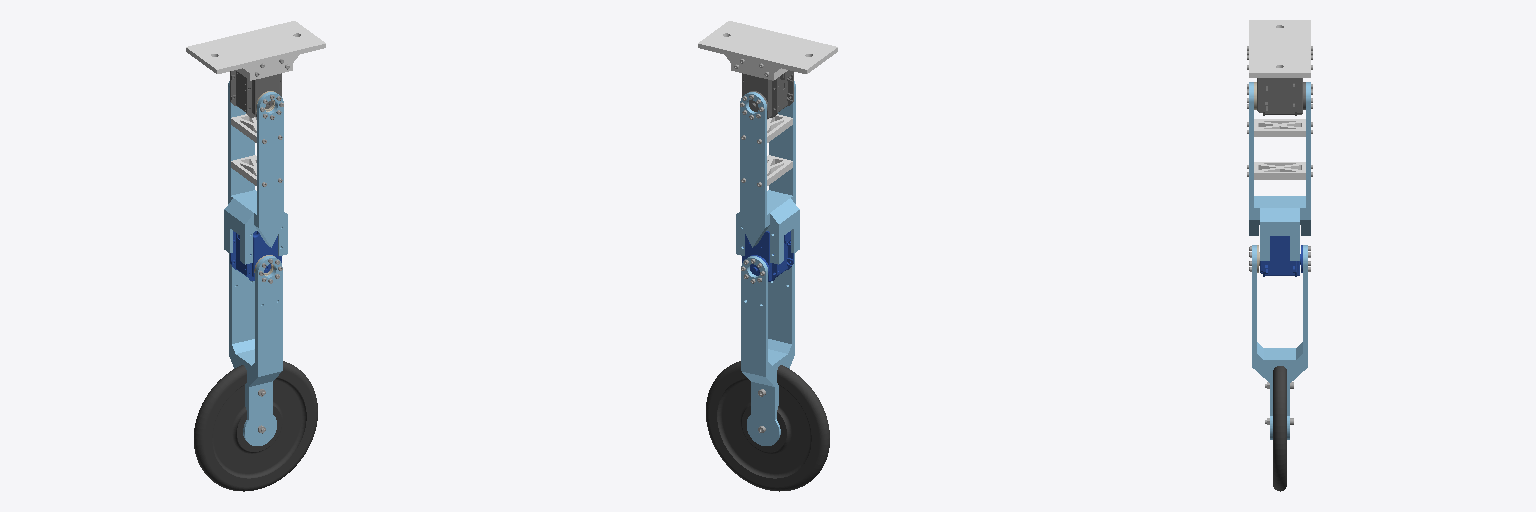
--- Render facts (derived) ---
3 views of the same robot in one strip: view 1: azimuth 30°, elevation 25°; view 2: azimuth 150°, elevation 25°; view 3: azimuth 270°, elevation 25° (orthographic).
Model 2r_mx with 5 links and 4 joints (2 revolute, 2 fixed), rooted at base_106, posed all joints at 0.
Links seen in each view (by area): view 1: sw_segment_64, first_segment_mix, base_106; view 2: sw_segment_64, first_segment_mix, base_106; view 3: first_segment_mix, base_106, sw_segment_64.
Link boxes in pixels (<box>): sw_segment_64: <box>194,253,317,491</box>; first_segment_mix: <box>224,81,287,280</box>; base_106: <box>186,21,325,117</box>; sw_segment_64: <box>706,253,829,491</box>; first_segment_mix: <box>736,81,799,281</box>; base_106: <box>698,21,837,118</box>; first_segment_mix: <box>1247,82,1312,276</box>; base_106: <box>1247,20,1312,115</box>; sw_segment_64: <box>1249,245,1310,491</box>.
Bounding box of the posed robot: 0.1399 × 0.067 × 0.4847 m (x, y, z).
68 mesh visuals loaded from 15 distinct referenced files (15 binary STL).

URDF robot description (2r_mx):
<?xml version="1.0" ?>
<!-- Generated using onshape-to-robot -->
<!-- Onshape https://cad.onshape.com/documents/e764ec92c6d6cd5bcf6d68d9/w/a8e95bf587cc977e65ed8aa5/e/8397fde05620ee94d449e6ed -->
<robot name="2r_mx">
    <!-- Link base_106 -->
    <link name="base_106">
        <inertial>
            <origin xyz="0 0 0" rpy="0 0 0"/>
            <mass value="0"/>
            <inertia ixx="0" ixy="0" ixz="0" iyy="0" iyz="0" izz="0"/>
        </inertial>
        <!-- Part ecrou_2_5 -->
        <visual>
            <origin xyz="0.011 -0.01347 0.593" rpy="1.5708 1.16573e-15 -1.5708"/>
            <geometry>
                <mesh filename="package://assets/ecrou_2_5.stl"/>
            </geometry>
            <material name="ecrou_2_5_material">
                <color rgba="0.690196 0.690196 0.690196 1.0"/>
            </material>
        </visual>
        <!-- Part m2_5x20__configuration__20 -->
        <visual>
            <origin xyz="0.0173 0.03097 0.5852" rpy="1.5708 1.16573e-15 -1.5708"/>
            <geometry>
                <mesh filename="package://assets/m2_5x20__configuration__20.stl"/>
            </geometry>
            <material name="m2_5x20__configuration__20_material">
                <color rgba="0.690196 0.690196 0.690196 1.0"/>
            </material>
        </visual>
        <!-- Part dc08_m01_dummy -->
        <visual>
            <origin xyz="-3.33067e-21 3e-05 0.5452" rpy="-1.5708 -0 -1.55511e-31"/>
            <geometry>
                <mesh filename="package://assets/dc08_m01_dummy.stl"/>
            </geometry>
            <material name="dc08_m01_dummy_material">
                <color rgba="0.498039 0.498039 0.498039 1.0"/>
            </material>
        </visual>
        <!-- Part ecrou_2_5_2 -->
        <visual>
            <origin xyz="-0.0173 -0.01347 0.5852" rpy="1.91128e-16 5.55112e-16 -1.5708"/>
            <geometry>
                <mesh filename="package://assets/ecrou_2_5.stl"/>
            </geometry>
            <material name="ecrou_2_5_2_material">
                <color rgba="0.690196 0.690196 0.690196 1.0"/>
            </material>
        </visual>
        <!-- Part ecrou_2_5_3 -->
        <visual>
            <origin xyz="0.0173 -0.01347 0.5852" rpy="1.91128e-16 5.55112e-16 -1.5708"/>
            <geometry>
                <mesh filename="package://assets/ecrou_2_5.stl"/>
            </geometry>
            <material name="ecrou_2_5_3_material">
                <color rgba="0.690196 0.690196 0.690196 1.0"/>
            </material>
        </visual>
        <!-- Part m2_5x20__configuration__20_2 -->
        <visual>
            <origin xyz="0.011 -0.03097 0.593" rpy="-1.5708 -1.16573e-15 1.5708"/>
            <geometry>
                <mesh filename="package://assets/m2_5x20__configuration__20.stl"/>
            </geometry>
            <material name="m2_5x20__configuration__20_2_material">
                <color rgba="0.690196 0.690196 0.690196 1.0"/>
            </material>
        </visual>
        <!-- Part m2_5x20__configuration__20_3 -->
        <visual>
            <origin xyz="0.011 0.03097 0.593" rpy="1.5708 1.16573e-15 -1.5708"/>
            <geometry>
                <mesh filename="package://assets/m2_5x20__configuration__20.stl"/>
            </geometry>
            <material name="m2_5x20__configuration__20_3_material">
                <color rgba="0.690196 0.690196 0.690196 1.0"/>
            </material>
        </visual>
        <!-- Part m2_5x20__configuration__20_4 -->
        <visual>
            <origin xyz="-0.0173 0.03097 0.5852" rpy="1.5708 1.16573e-15 -1.5708"/>
            <geometry>
                <mesh filename="package://assets/m2_5x20__configuration__20.stl"/>
            </geometry>
            <material name="m2_5x20__configuration__20_4_material">
                <color rgba="0.690196 0.690196 0.690196 1.0"/>
            </material>
        </visual>
        <!-- Part hn05_i101 -->
        <visual>
            <origin xyz="-6.66134e-21 6e-05 0.5452" rpy="-1.5708 -0 -1.30859e-31"/>
            <geometry>
                <mesh filename="package://assets/hn05_i101.stl"/>
            </geometry>
            <material name="hn05_i101_material">
                <color rgba="0.8 0.776471 0.713725 1.0"/>
            </material>
        </visual>
        <!-- Part ecrou_2_5_4 -->
        <visual>
            <origin xyz="-0.011 -0.01347 0.593" rpy="1.5708 1.16573e-15 -1.5708"/>
            <geometry>
                <mesh filename="package://assets/ecrou_2_5.stl"/>
            </geometry>
            <material name="ecrou_2_5_4_material">
                <color rgba="0.690196 0.690196 0.690196 1.0"/>
            </material>
        </visual>
        <!-- Part m2_5x20__configuration__20_5 -->
        <visual>
            <origin xyz="-0.0173 -0.03097 0.5852" rpy="-1.5708 -1.16573e-15 1.5708"/>
            <geometry>
                <mesh filename="package://assets/m2_5x20__configuration__20.stl"/>
            </geometry>
            <material name="m2_5x20__configuration__20_5_material">
                <color rgba="0.690196 0.690196 0.690196 1.0"/>
            </material>
        </visual>
        <!-- Part m2_5x20__configuration__20_6 -->
        <visual>
            <origin xyz="-0.011 -0.03097 0.593" rpy="-1.5708 -1.16573e-15 1.5708"/>
            <geometry>
                <mesh filename="package://assets/m2_5x20__configuration__20.stl"/>
            </geometry>
            <material name="m2_5x20__configuration__20_6_material">
                <color rgba="0.690196 0.690196 0.690196 1.0"/>
            </material>
        </visual>
        <!-- Part m2_5x20__configuration__20_7 -->
        <visual>
            <origin xyz="-0.011 0.03097 0.593" rpy="1.5708 1.16573e-15 -1.5708"/>
            <geometry>
                <mesh filename="package://assets/m2_5x20__configuration__20.stl"/>
            </geometry>
            <material name="m2_5x20__configuration__20_7_material">
                <color rgba="0.690196 0.690196 0.690196 1.0"/>
            </material>
        </visual>
        <!-- Part m2_5x20__configuration__20_8 -->
        <visual>
            <origin xyz="0.0173 -0.03097 0.5852" rpy="-1.5708 -1.16573e-15 1.5708"/>
            <geometry>
                <mesh filename="package://assets/m2_5x20__configuration__20.stl"/>
            </geometry>
            <material name="m2_5x20__configuration__20_8_material">
                <color rgba="0.690196 0.690196 0.690196 1.0"/>
            </material>
        </visual>
        <!-- Part base_mx106 -->
        <visual>
            <origin xyz="0 7.33921e-18 0.5452" rpy="-1.5708 -0 -1.55511e-31"/>
            <geometry>
                <mesh filename="package://assets/base_mx106.stl"/>
            </geometry>
            <material name="base_mx106_material">
                <color rgba="0.917647 0.917647 0.917647 1.0"/>
            </material>
        </visual>
    </link>
    <!-- Frame base (dummy link + fixed joint) -->
    <link name="base">
        <origin xyz="0 0 0" rpy="0 -0 0"/>
        <inertial>
            <origin xyz="0 0 0" rpy="0 0 0"/>
            <mass value="1e-9"/>
            <inertia ixx="0" ixy="0" ixz="0" iyy="0" iyz="0" izz="0"/>
        </inertial>
    </link>
    <joint name="base_frame" type="fixed">
        <origin xyz="1.73264e-35 9.3735e-36 0.6" rpy="3.14159 1.13185e-16 -1.07995e-16"/>
        <parent link="base_106"/>
        <child link="base"/>
        <axis xyz="0 0 0"/>
    </joint>
    <!-- Link first_segment_mix -->
    <link name="first_segment_mix">
        <inertial>
            <origin xyz="5.57459e-09 -0.138051 0.026169" rpy="0 0 0"/>
            <mass value="0.211448"/>
            <inertia ixx="0.000602098" ixy="2.865e-12" ixz="1.94432e-11" iyy="8.00363e-05" iyz="7.36043e-07" izz="0.000561942"/>
        </inertial>
        <!-- Part m2_5x6__configuration__6 -->
        <visual>
            <origin xyz="-0.011 -1.44329e-15 -0.005" rpy="2.32925e-13 -1.5708 0"/>
            <geometry>
                <mesh filename="package://assets/m2_5x6__configuration__6.stl"/>
            </geometry>
            <material name="m2_5x6__configuration__6_material">
                <color rgba="0.690196 0.690196 0.690196 1.0"/>
            </material>
        </visual>
        <!-- Part m2_5x6__configuration__6_2 -->
        <visual>
            <origin xyz="-0.00777817 -0.00777817 -0.005" rpy="2.32925e-13 -1.5708 0"/>
            <geometry>
                <mesh filename="package://assets/m2_5x6__configuration__6.stl"/>
            </geometry>
            <material name="m2_5x6__configuration__6_2_material">
                <color rgba="0.690196 0.690196 0.690196 1.0"/>
            </material>
        </visual>
        <!-- Part mid_part -->
        <visual>
            <origin xyz="5.08801e-15 -0.047 0.02597" rpy="-4.56302e-14 5.13584e-16 -3.14159"/>
            <geometry>
                <mesh filename="package://assets/mid_part.stl"/>
            </geometry>
            <material name="mid_part_material">
                <color rgba="0.917647 0.917647 0.917647 1.0"/>
            </material>
        </visual>
        <!-- Part m2_5x6__configuration__6_3 -->
        <visual>
            <origin xyz="-1.34807e-15 0.011 -0.005" rpy="2.32925e-13 -1.5708 0"/>
            <geometry>
                <mesh filename="package://assets/m2_5x6__configuration__6.stl"/>
            </geometry>
            <material name="m2_5x6__configuration__6_3_material">
                <color rgba="0.690196 0.690196 0.690196 1.0"/>
            </material>
        </visual>
        <!-- Part dc05_m01_dummy -->
        <visual>
            <origin xyz="1.99576e-14 -0.18 0.026" rpy="-3.14159 -2.73691e-47 -2.37389e-65"/>
            <geometry>
                <mesh filename="package://assets/dc05_m01_dummy.stl"/>
            </geometry>
            <material name="dc05_m01_dummy_material">
                <color rgba="0.231373 0.380392 0.705882 1.0"/>
            </material>
        </visual>
        <!-- Part m2_5x6__configuration__6_4 -->
        <visual>
            <origin xyz="0.00777817 0.00777817 0.05694" rpy="-2.33313e-13 1.5708 0"/>
            <geometry>
                <mesh filename="package://assets/m2_5x6__configuration__6.stl"/>
            </geometry>
            <material name="m2_5x6__configuration__6_4_material">
                <color rgba="0.690196 0.690196 0.690196 1.0"/>
            </material>
        </visual>
        <!-- Part first_segment_mix -->
        <visual>
            <origin xyz="3.20689e-14 -0.002 0.026" rpy="-3.14159 -2.73691e-47 -2.37389e-65"/>
            <geometry>
                <mesh filename="package://assets/first_segment_mix.stl"/>
            </geometry>
            <material name="first_segment_mix_material">
                <color rgba="0.615686 0.811765 0.929412 1.0"/>
            </material>
        </visual>
        <!-- Part m2_5x12__configuration__12 -->
        <visual>
            <origin xyz="-0.009 -0.0823234 0.05694" rpy="-2.33313e-13 1.5708 0"/>
            <geometry>
                <mesh filename="package://assets/m2_5x12__configuration__12.stl"/>
            </geometry>
            <material name="m2_5x12__configuration__12_material">
                <color rgba="0.690196 0.690196 0.690196 1.0"/>
            </material>
        </visual>
        <!-- Part m2_5x6__configuration__6_5 -->
        <visual>
            <origin xyz="-0.00777817 -0.00777817 0.05694" rpy="-2.33313e-13 1.5708 0"/>
            <geometry>
                <mesh filename="package://assets/m2_5x6__configuration__6.stl"/>
            </geometry>
            <material name="m2_5x6__configuration__6_5_material">
                <color rgba="0.690196 0.690196 0.690196 1.0"/>
            </material>
        </visual>
        <!-- Part m2_5x6__configuration__6_6 -->
        <visual>
            <origin xyz="-0.00777817 0.00777817 -0.005" rpy="2.32925e-13 -1.5708 0"/>
            <geometry>
                <mesh filename="package://assets/m2_5x6__configuration__6.stl"/>
            </geometry>
            <material name="m2_5x6__configuration__6_6_material">
                <color rgba="0.690196 0.690196 0.690196 1.0"/>
            </material>
        </visual>
        <!-- Part m2_5x6__configuration__6_7 -->
        <visual>
            <origin xyz="0.00777817 0.00777817 -0.005" rpy="2.32925e-13 -1.5708 0"/>
            <geometry>
                <mesh filename="package://assets/m2_5x6__configuration__6.stl"/>
            </geometry>
            <material name="m2_5x6__configuration__6_7_material">
                <color rgba="0.690196 0.690196 0.690196 1.0"/>
            </material>
        </visual>
        <!-- Part m2_5x6__configuration__6_8 -->
        <visual>
            <origin xyz="0.011 8.88178e-16 -0.005" rpy="2.32925e-13 -1.5708 0"/>
            <geometry>
                <mesh filename="package://assets/m2_5x6__configuration__6.stl"/>
            </geometry>
            <material name="m2_5x6__configuration__6_8_material">
                <color rgba="0.690196 0.690196 0.690196 1.0"/>
            </material>
        </visual>
        <!-- Part m2_5x6__configuration__6_9 -->
        <visual>
            <origin xyz="9.8218e-16 -0.011 0.05694" rpy="-2.33313e-13 1.5708 0"/>
            <geometry>
                <mesh filename="package://assets/m2_5x6__configuration__6.stl"/>
            </geometry>
            <material name="m2_5x6__configuration__6_9_material">
                <color rgba="0.690196 0.690196 0.690196 1.0"/>
            </material>
        </visual>
        <!-- Part m2_5x12__configuration__12_2 -->
        <visual>
            <origin xyz="0.009 -0.0353234 0.05694" rpy="-2.33313e-13 1.5708 0"/>
            <geometry>
                <mesh filename="package://assets/m2_5x12__configuration__12.stl"/>
            </geometry>
            <material name="m2_5x12__configuration__12_2_material">
                <color rgba="0.690196 0.690196 0.690196 1.0"/>
            </material>
        </visual>
        <!-- Part m2_5x12__configuration__12_3 -->
        <visual>
            <origin xyz="-0.009 -0.0353234 0.05694" rpy="-2.33313e-13 1.5708 0"/>
            <geometry>
                <mesh filename="package://assets/m2_5x12__configuration__12.stl"/>
            </geometry>
            <material name="m2_5x12__configuration__12_3_material">
                <color rgba="0.690196 0.690196 0.690196 1.0"/>
            </material>
        </visual>
        <!-- Part m2_5x6__configuration__6_10 -->
        <visual>
            <origin xyz="0.011 -5.55112e-16 0.05694" rpy="-2.33313e-13 1.5708 0"/>
            <geometry>
                <mesh filename="package://assets/m2_5x6__configuration__6.stl"/>
            </geometry>
            <material name="m2_5x6__configuration__6_10_material">
                <color rgba="0.690196 0.690196 0.690196 1.0"/>
            </material>
        </visual>
        <!-- Part m2_5x6__configuration__6_11 -->
        <visual>
            <origin xyz="0.00777817 -0.00777817 -0.005" rpy="2.32925e-13 -1.5708 0"/>
            <geometry>
                <mesh filename="package://assets/m2_5x6__configuration__6.stl"/>
            </geometry>
            <material name="m2_5x6__configuration__6_11_material">
                <color rgba="0.690196 0.690196 0.690196 1.0"/>
            </material>
        </visual>
        <!-- Part mid_part_2 -->
        <visual>
            <origin xyz="7.41816e-15 -0.0706468 0.02597" rpy="4.4964e-14 -6.5604e-16 2.01617e-13"/>
            <geometry>
                <mesh filename="package://assets/mid_part.stl"/>
            </geometry>
            <material name="mid_part_2_material">
                <color rgba="0.917647 0.917647 0.917647 1.0"/>
            </material>
        </visual>
        <!-- Part first_segment_mix_2 -->
        <visual>
            <origin xyz="-3.19909e-14 -0.002 0.02594" rpy="-4.56302e-14 5.13584e-16 -3.14159"/>
            <geometry>
                <mesh filename="package://assets/first_segment_mix.stl"/>
            </geometry>
            <material name="first_segment_mix_2_material">
                <color rgba="0.615686 0.811765 0.929412 1.0"/>
            </material>
        </visual>
        <!-- Part m2_5x6__configuration__6_12 -->
        <visual>
            <origin xyz="-1.45909e-15 0.011 0.05694" rpy="-2.33313e-13 1.5708 0"/>
            <geometry>
                <mesh filename="package://assets/m2_5x6__configuration__6.stl"/>
            </geometry>
            <material name="m2_5x6__configuration__6_12_material">
                <color rgba="0.690196 0.690196 0.690196 1.0"/>
            </material>
        </visual>
        <!-- Part m2_5x6__configuration__6_13 -->
        <visual>
            <origin xyz="-0.00777817 0.00777817 0.05694" rpy="-2.33313e-13 1.5708 0"/>
            <geometry>
                <mesh filename="package://assets/m2_5x6__configuration__6.stl"/>
            </geometry>
            <material name="m2_5x6__configuration__6_13_material">
                <color rgba="0.690196 0.690196 0.690196 1.0"/>
            </material>
        </visual>
        <!-- Part m2_5x6__configuration__6_14 -->
        <visual>
            <origin xyz="-0.011 -2.88658e-15 0.05694" rpy="-2.33313e-13 1.5708 0"/>
            <geometry>
                <mesh filename="package://assets/m2_5x6__configuration__6.stl"/>
            </geometry>
            <material name="m2_5x6__configuration__6_14_material">
                <color rgba="0.690196 0.690196 0.690196 1.0"/>
            </material>
        </visual>
        <!-- Part m2_5x12__configuration__12_4 -->
        <visual>
            <origin xyz="0.009 -0.0823234 0.05694" rpy="-2.33313e-13 1.5708 0"/>
            <geometry>
                <mesh filename="package://assets/m2_5x12__configuration__12.stl"/>
            </geometry>
            <material name="m2_5x12__configuration__12_4_material">
                <color rgba="0.690196 0.690196 0.690196 1.0"/>
            </material>
        </visual>
        <!-- Part m2_5x12__configuration__12_5 -->
        <visual>
            <origin xyz="0.009 -0.0353234 -0.005" rpy="2.32925e-13 -1.5708 0"/>
            <geometry>
                <mesh filename="package://assets/m2_5x12__configuration__12.stl"/>
            </geometry>
            <material name="m2_5x12__configuration__12_5_material">
                <color rgba="0.690196 0.690196 0.690196 1.0"/>
            </material>
        </visual>
        <!-- Part m2_5x6__configuration__6_15 -->
        <visual>
            <origin xyz="9.8218e-16 -0.011 -0.005" rpy="2.32925e-13 -1.5708 0"/>
            <geometry>
                <mesh filename="package://assets/m2_5x6__configuration__6.stl"/>
            </geometry>
            <material name="m2_5x6__configuration__6_15_material">
                <color rgba="0.690196 0.690196 0.690196 1.0"/>
            </material>
        </visual>
        <!-- Part m2_5x12__configuration__12_6 -->
        <visual>
            <origin xyz="-0.009 -0.0823234 -0.005" rpy="2.32925e-13 -1.5708 0"/>
            <geometry>
                <mesh filename="package://assets/m2_5x12__configuration__12.stl"/>
            </geometry>
            <material name="m2_5x12__configuration__12_6_material">
                <color rgba="0.690196 0.690196 0.690196 1.0"/>
            </material>
        </visual>
        <!-- Part m2_5x6__configuration__6_16 -->
        <visual>
            <origin xyz="0.00777817 -0.00777817 0.05694" rpy="-2.33313e-13 1.5708 0"/>
            <geometry>
                <mesh filename="package://assets/m2_5x6__configuration__6.stl"/>
            </geometry>
            <material name="m2_5x6__configuration__6_16_material">
                <color rgba="0.690196 0.690196 0.690196 1.0"/>
            </material>
        </visual>
        <!-- Part m2_5x12__configuration__12_7 -->
        <visual>
            <origin xyz="0.009 -0.0823234 -0.005" rpy="2.32925e-13 -1.5708 0"/>
            <geometry>
                <mesh filename="package://assets/m2_5x12__configuration__12.stl"/>
            </geometry>
            <material name="m2_5x12__configuration__12_7_material">
                <color rgba="0.690196 0.690196 0.690196 1.0"/>
            </material>
        </visual>
        <!-- Part m2_5x12__configuration__12_8 -->
        <visual>
            <origin xyz="-0.009 -0.0353234 -0.005" rpy="2.32925e-13 -1.5708 0"/>
            <geometry>
                <mesh filename="package://assets/m2_5x12__configuration__12.stl"/>
            </geometry>
            <material name="m2_5x12__configuration__12_8_material">
                <color rgba="0.690196 0.690196 0.690196 1.0"/>
            </material>
        </visual>
        <!-- Part hn05_i101_2 -->
        <visual>
            <origin xyz="1.99576e-14 -0.18 0.04564" rpy="4.4964e-14 -6.5604e-16 2.01617e-13"/>
            <geometry>
                <mesh filename="package://assets/hn05_i101__2.stl"/>
            </geometry>
            <material name="hn05_i101_2_material">
                <color rgba="0.8 0.776471 0.713725 1.0"/>
            </material>
        </visual>
    </link>
    <!-- Link sw_segment_64 -->
    <link name="sw_segment_64">
        <inertial>
            <origin xyz="-2.12921e-17 -0.177175 0.0233766" rpy="0 0 0"/>
            <mass value="1.04661"/>
            <inertia ixx="0.00198375" ixy="3.49657e-16" ixz="7.76176e-10" iyy="0.00143404" iyz="-1.18439e-07" izz="0.00334693"/>
        </inertial>
        <!-- Part sw_mx64_segment -->
        <visual>
            <origin xyz="-2.10121e-18 0.18 0.02077" rpy="1.03644e-32 5.70628e-32 3.14159"/>
            <geometry>
                <mesh filename="package://assets/sw_mx64_segment.stl"/>
            </geometry>
            <material name="sw_mx64_segment_material">
                <color rgba="0.615686 0.811765 0.929412 1.0"/>
            </material>
        </visual>
        <!-- Part m2_5x6__configuration__6_17 -->
        <visual>
            <origin xyz="0.011 -9.65894e-15 -0.005" rpy="2.24702e-29 -1.5708 0"/>
            <geometry>
                <mesh filename="package://assets/m2_5x6__configuration__6.stl"/>
            </geometry>
            <material name="m2_5x6__configuration__6_17_material">
                <color rgba="0.690196 0.690196 0.690196 1.0"/>
            </material>
        </visual>
        <!-- Part m2_5x6__configuration__6_18 -->
        <visual>
            <origin xyz="-0.011 -9.76996e-15 0.05174" rpy="-2.21744e-29 1.5708 0"/>
            <geometry>
                <mesh filename="package://assets/m2_5x6__configuration__6.stl"/>
            </geometry>
            <material name="m2_5x6__configuration__6_18_material">
                <color rgba="0.690196 0.690196 0.690196 1.0"/>
            </material>
        </visual>
        <!-- Part ecrou_4 -->
        <visual>
            <origin xyz="-2.52695e-17 -0.14 0.03487" rpy="-2.21744e-29 1.5708 0"/>
            <geometry>
                <mesh filename="package://assets/ecrou_4.stl"/>
            </geometry>
            <material name="ecrou_4_material">
                <color rgba="0.690196 0.690196 0.690196 1.0"/>
            </material>
        </visual>
        <!-- Part weight_985 -->
        <visual>
            <origin xyz="-5.56546e-17 -0.18 0.02012" rpy="-1.5708 5.97715e-19 -1.2326e-32"/>
            <geometry>
                <mesh filename="package://assets/weight_985.stl"/>
            </geometry>
            <material name="weight_985_material">
                <color rgba="0.301961 0.301961 0.301961 1.0"/>
            </material>
        </visual>
        <!-- Part m2_5x6__configuration__6_19 -->
        <visual>
            <origin xyz="-0.00777817 -0.00777817 0.05174" rpy="-2.21744e-29 1.5708 0"/>
            <geometry>
                <mesh filename="package://assets/m2_5x6__configuration__6.stl"/>
            </geometry>
            <material name="m2_5x6__configuration__6_19_material">
                <color rgba="0.690196 0.690196 0.690196 1.0"/>
            </material>
        </visual>
        <!-- Part m2_5x6__configuration__6_20 -->
        <visual>
            <origin xyz="-6.50266e-17 0.011 0.05174" rpy="-2.21744e-29 1.5708 0"/>
            <geometry>
                <mesh filename="package://assets/m2_5x6__configuration__6.stl"/>
            </geometry>
            <material name="m2_5x6__configuration__6_20_material">
                <color rgba="0.690196 0.690196 0.690196 1.0"/>
            </material>
        </visual>
        <!-- Part m2_5x6__configuration__6_21 -->
        <visual>
            <origin xyz="-0.011 -9.76996e-15 -0.005" rpy="2.24702e-29 -1.5708 0"/>
            <geometry>
                <mesh filename="package://assets/m2_5x6__configuration__6.stl"/>
            </geometry>
            <material name="m2_5x6__configuration__6_21_material">
                <color rgba="0.690196 0.690196 0.690196 1.0"/>
            </material>
        </visual>
        <!-- Part ecrou_4_2 -->
        <visual>
            <origin xyz="-4.96944e-17 -0.18 0.03487" rpy="-2.21744e-29 1.5708 0"/>
            <geometry>
                <mesh filename="package://assets/ecrou_4.stl"/>
            </geometry>
            <material name="ecrou_4_2_material">
                <color rgba="0.690196 0.690196 0.690196 1.0"/>
            </material>
        </visual>
        <!-- Part m2_5x6__configuration__6_22 -->
        <visual>
            <origin xyz="-0.00777817 0.00777817 -0.005" rpy="2.24702e-29 -1.5708 0"/>
            <geometry>
                <mesh filename="package://assets/m2_5x6__configuration__6.stl"/>
            </geometry>
            <material name="m2_5x6__configuration__6_22_material">
                <color rgba="0.690196 0.690196 0.690196 1.0"/>
            </material>
        </visual>
        <!-- Part m2_5x6__configuration__6_23 -->
        <visual>
            <origin xyz="6.03176e-17 -0.011 0.05174" rpy="-2.21744e-29 1.5708 0"/>
            <geometry>
                <mesh filename="package://assets/m2_5x6__configuration__6.stl"/>
            </geometry>
            <material name="m2_5x6__configuration__6_23_material">
                <color rgba="0.690196 0.690196 0.690196 1.0"/>
            </material>
        </visual>
        <!-- Part m4x25__length__30 -->
        <visual>
            <origin xyz="-3.39168e-17 -0.14 0.01347" rpy="2.24702e-29 -1.5708 0"/>
            <geometry>
                <mesh filename="package://assets/m4x25__length__30.stl"/>
            </geometry>
            <material name="m4x25__length__30_material">
                <color rgba="0.690196 0.690196 0.690196 1.0"/>
            </material>
        </visual>
        <!-- Part m2_5x6__configuration__6_24 -->
        <visual>
            <origin xyz="-4.68724e-18 0.011 -0.005" rpy="2.24702e-29 -1.5708 0"/>
            <geometry>
                <mesh filename="package://assets/m2_5x6__configuration__6.stl"/>
            </geometry>
            <material name="m2_5x6__configuration__6_24_material">
                <color rgba="0.690196 0.690196 0.690196 1.0"/>
            </material>
        </visual>
        <!-- Part sw_mx64_segment_2 -->
        <visual>
            <origin xyz="-3.15544e-30 0.18 0.02597" rpy="3.14159 6.52163e-32 -1.2326e-32"/>
            <geometry>
                <mesh filename="package://assets/sw_mx64_segment.stl"/>
            </geometry>
            <material name="sw_mx64_segment_2_material">
                <color rgba="0.615686 0.811765 0.929412 1.0"/>
            </material>
        </visual>
        <!-- Part m2_5x6__configuration__6_25 -->
        <visual>
            <origin xyz="0.00777817 -0.00777817 0.05174" rpy="-2.21744e-29 1.5708 0"/>
            <geometry>
                <mesh filename="package://assets/m2_5x6__configuration__6.stl"/>
            </geometry>
            <material name="m2_5x6__configuration__6_25_material">
                <color rgba="0.690196 0.690196 0.690196 1.0"/>
            </material>
        </visual>
        <!-- Part m2_5x6__configuration__6_26 -->
        <visual>
            <origin xyz="-0.00777817 -0.00777817 -0.005" rpy="2.24702e-29 -1.5708 0"/>
            <geometry>
                <mesh filename="package://assets/m2_5x6__configuration__6.stl"/>
            </geometry>
            <material name="m2_5x6__configuration__6_26_material">
                <color rgba="0.690196 0.690196 0.690196 1.0"/>
            </material>
        </visual>
        <!-- Part m2_5x6__configuration__6_27 -->
        <visual>
            <origin xyz="0.00777817 0.00777817 0.05174" rpy="-2.21744e-29 1.5708 0"/>
            <geometry>
                <mesh filename="package://assets/m2_5x6__configuration__6.stl"/>
            </geometry>
            <material name="m2_5x6__configuration__6_27_material">
                <color rgba="0.690196 0.690196 0.690196 1.0"/>
            </material>
        </visual>
        <!-- Part m2_5x6__configuration__6_28 -->
        <visual>
            <origin xyz="6.51458e-17 -0.011 -0.005" rpy="2.24702e-29 -1.5708 0"/>
            <geometry>
                <mesh filename="package://assets/m2_5x6__configuration__6.stl"/>
            </geometry>
            <material name="m2_5x6__configuration__6_28_material">
                <color rgba="0.690196 0.690196 0.690196 1.0"/>
            </material>
        </visual>
        <!-- Part m2_5x6__configuration__6_29 -->
        <visual>
            <origin xyz="0.00777817 -0.00777817 -0.005" rpy="2.24702e-29 -1.5708 0"/>
            <geometry>
                <mesh filename="package://assets/m2_5x6__configuration__6.stl"/>
            </geometry>
            <material name="m2_5x6__configuration__6_29_material">
                <color rgba="0.690196 0.690196 0.690196 1.0"/>
            </material>
        </visual>
        <!-- Part m2_5x6__configuration__6_30 -->
        <visual>
            <origin xyz="-0.00777817 0.00777817 0.05174" rpy="-2.21744e-29 1.5708 0"/>
            <geometry>
                <mesh filename="package://assets/m2_5x6__configuration__6.stl"/>
            </geometry>
            <material name="m2_5x6__configuration__6_30_material">
                <color rgba="0.690196 0.690196 0.690196 1.0"/>
            </material>
        </visual>
        <!-- Part m4x25__length__30_2 -->
        <visual>
            <origin xyz="-5.83417e-17 -0.18 0.01347" rpy="2.24702e-29 -1.5708 0"/>
            <geometry>
                <mesh filename="package://assets/m4x25__length__30.stl"/>
            </geometry>
            <material name="m4x25__length__30_2_material">
                <color rgba="0.690196 0.690196 0.690196 1.0"/>
            </material>
        </visual>
        <!-- Part m2_5x6__configuration__6_31 -->
        <visual>
            <origin xyz="0.011 -9.65894e-15 0.05174" rpy="-2.21744e-29 1.5708 0"/>
            <geometry>
                <mesh filename="package://assets/m2_5x6__configuration__6.stl"/>
            </geometry>
            <material name="m2_5x6__configuration__6_31_material">
                <color rgba="0.690196 0.690196 0.690196 1.0"/>
            </material>
        </visual>
        <!-- Part m2_5x6__configuration__6_32 -->
        <visual>
            <origin xyz="0.00777817 0.00777817 -0.005" rpy="2.24702e-29 -1.5708 0"/>
            <geometry>
                <mesh filename="package://assets/m2_5x6__configuration__6.stl"/>
            </geometry>
            <material name="m2_5x6__configuration__6_32_material">
                <color rgba="0.690196 0.690196 0.690196 1.0"/>
            </material>
        </visual>
    </link>
    <!-- Frame end (dummy link + fixed joint) -->
    <link name="end">
        <origin xyz="0 0 0" rpy="0 -0 0"/>
        <inertial>
            <origin xyz="0 0 0" rpy="0 0 0"/>
            <mass value="1e-9"/>
            <inertia ixx="0" ixy="0" ixz="0" iyy="0" iyz="0" izz="0"/>
        </inertial>
    </link>
    <joint name="end_frame" type="fixed">
        <origin xyz="-5.11455e-17 -0.18 0.02337" rpy="1.5708 5.97715e-19 -1.2326e-32"/>
        <parent link="sw_segment_64"/>
        <child link="end"/>
        <axis xyz="0 0 0"/>
    </joint>
    <!-- Joint from first_segment_mix to sw_segment_64 -->
    <joint name="R2" type="revolute">
        <origin xyz="1.99576e-14 -0.18 0.0025" rpy="1.43557e-16 -6.28308e-16 1.66533e-16"/>
        <parent link="first_segment_mix"/>
        <child link="sw_segment_64"/>
        <axis xyz="0 0 1"/>
        <limit effort="10" velocity="10" lower="-2.61799" upper="2.61799"/>
    </joint>
    <!-- Joint from base_106 to first_segment_mix -->
    <joint name="R1" type="revolute">
        <origin xyz="1.64102e-17 0.02603 0.5452" rpy="1.5708 -0 -1.72563e-31"/>
        <parent link="base_106"/>
        <child link="first_segment_mix"/>
        <axis xyz="0 0 1"/>
        <limit effort="10" velocity="10" lower="-1.91986" upper="1.91986"/>
    </joint>
</robot>
